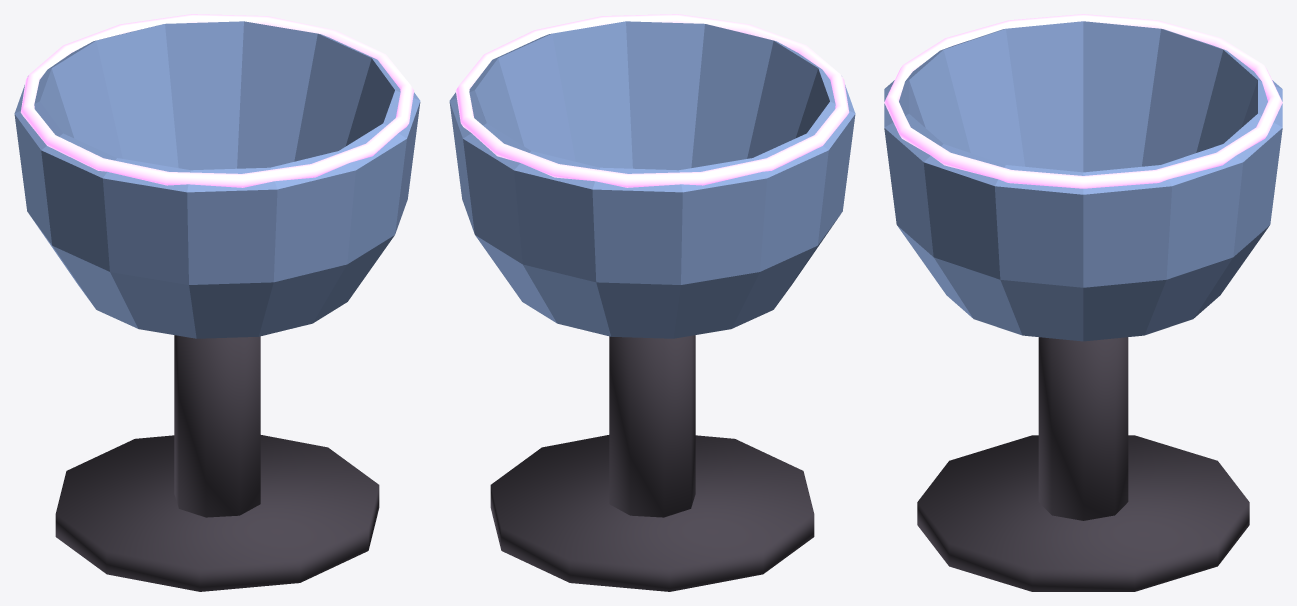
The model's file is v_ab_seat.glb.
3 views of the same model, side by side, from view 1: azimuth 30°, elevation 25°; view 2: azimuth 150°, elevation 25°; view 3: azimuth 270°, elevation 25° (orthographic).
Parts seen in each view (by area): view 1: Seat; view 2: Seat; view 3: Seat.
Boxes of the visible parts, bbox=[...] form: Seat: bbox=[14, 14, 420, 591]; Seat: bbox=[449, 14, 855, 591]; Seat: bbox=[884, 14, 1282, 591].
Size of what is drawn, in the model's own units: 0.64 by 0.7404 by 0.624.
